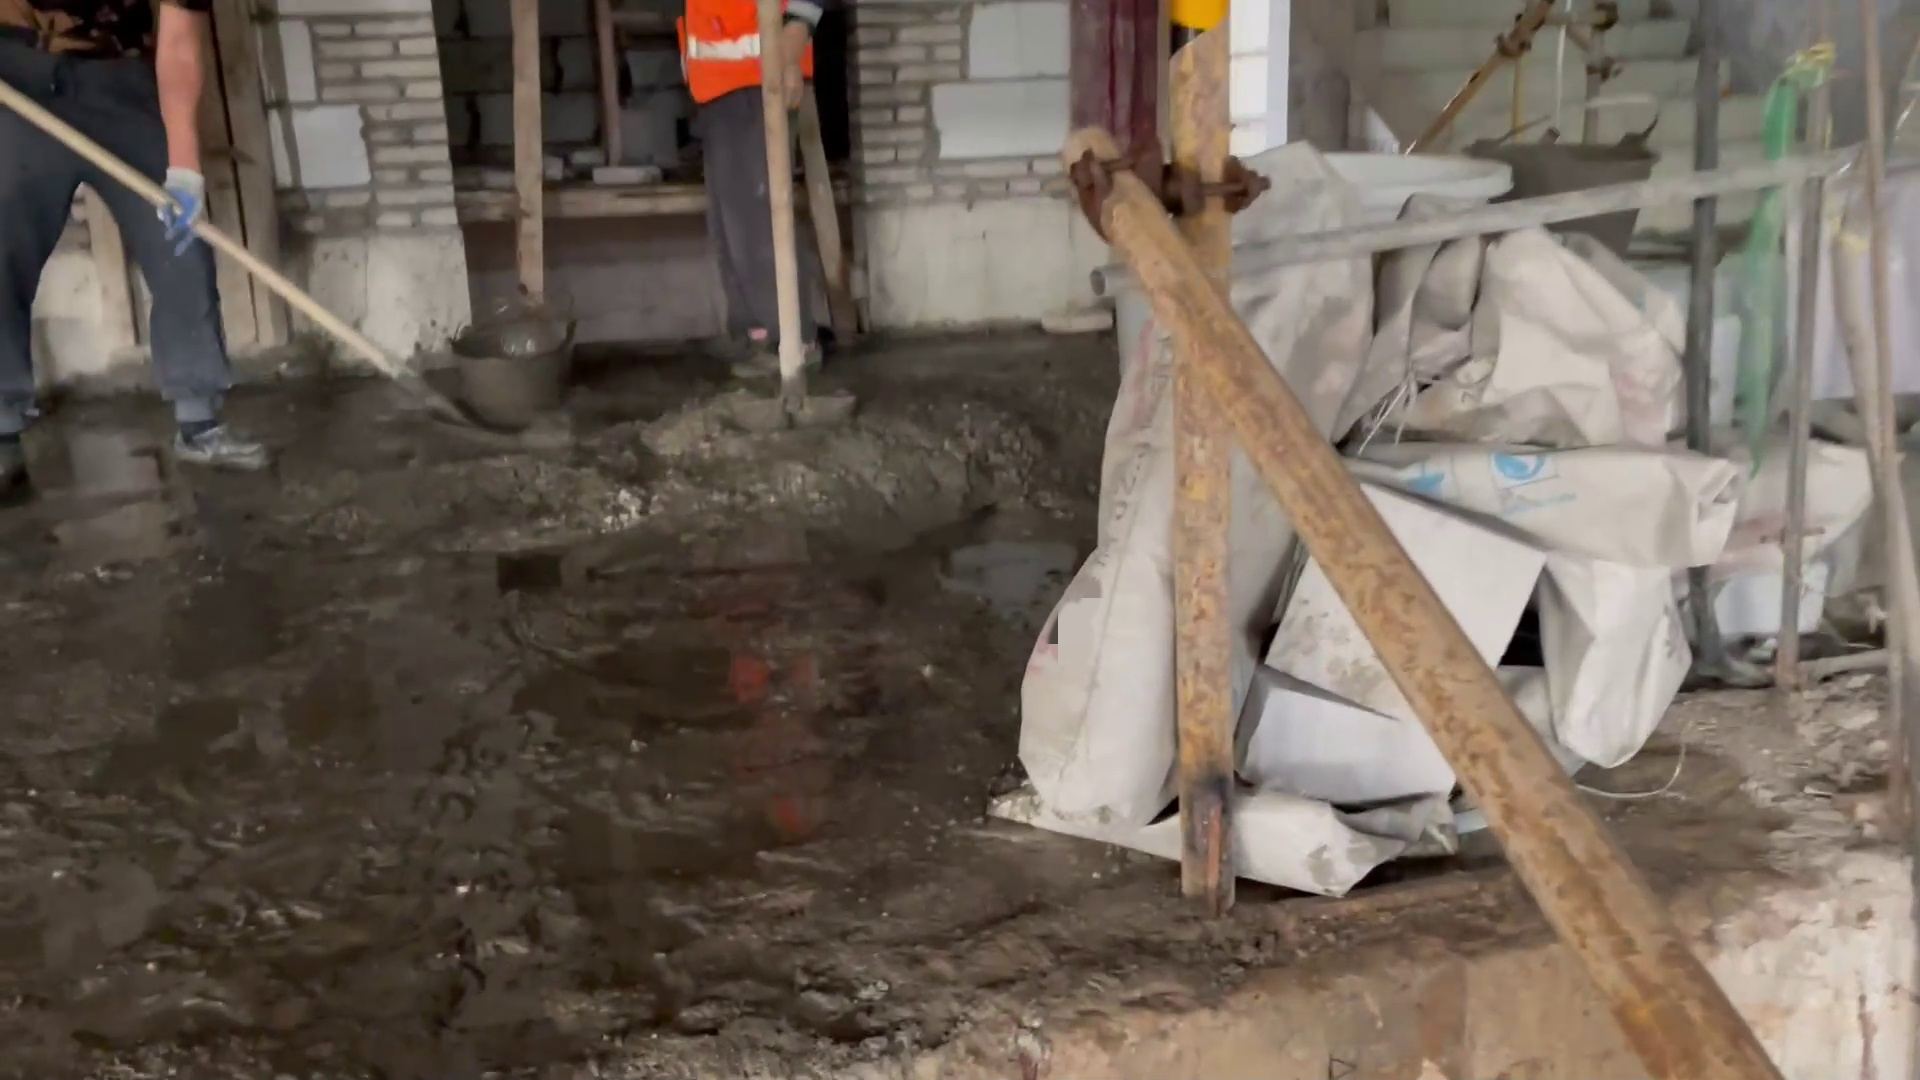person: (1, 1, 280, 477), (649, 5, 859, 373)
vest: (668, 5, 816, 108)
